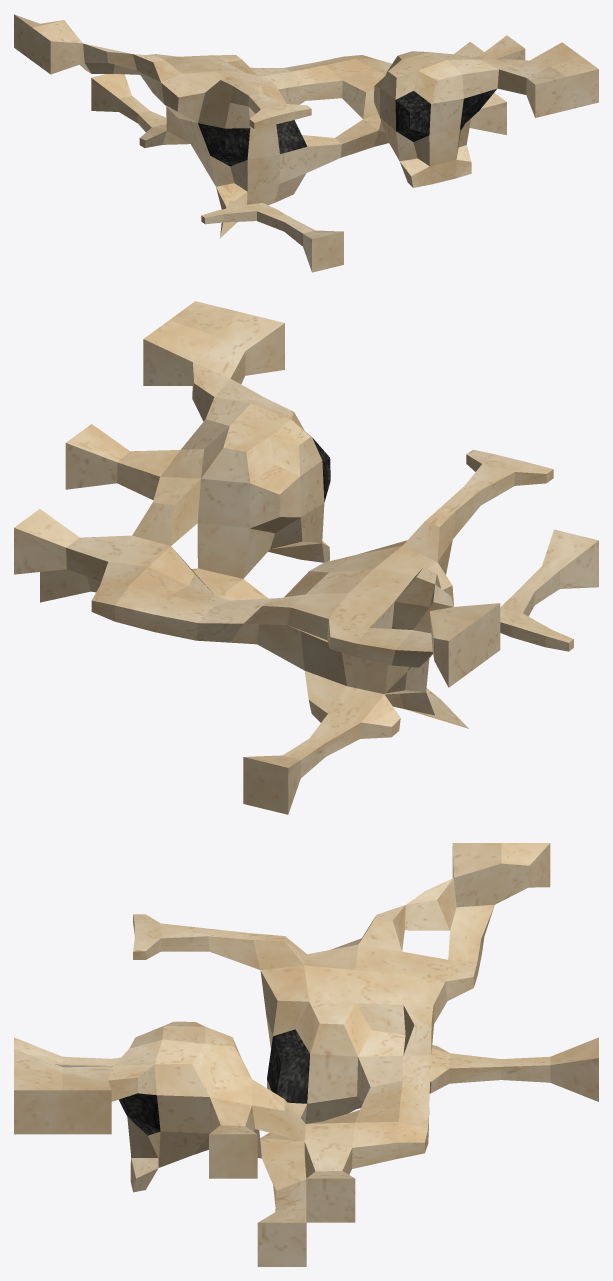
File: bone_pile.glb
3 renders of one model, top to bottom at view 1: azimuth 30°, elevation 25°; view 2: azimuth 150°, elevation 25°; view 3: azimuth 270°, elevation 25°, orthographic. The views are drawn at different scales.
Visible parts, largest first — view 1: crypt_bone_pile; view 2: crypt_bone_pile; view 3: crypt_bone_pile.
Part boxes in pixels (x1,y1,x2,y2): crypt_bone_pile: (14, 14, 598, 272); crypt_bone_pile: (14, 301, 598, 814); crypt_bone_pile: (14, 843, 598, 1266).
Bounding box in the file's own units: 0.75 × 0.3125 × 0.75.
Materials: 1 (1 with a texture image).
